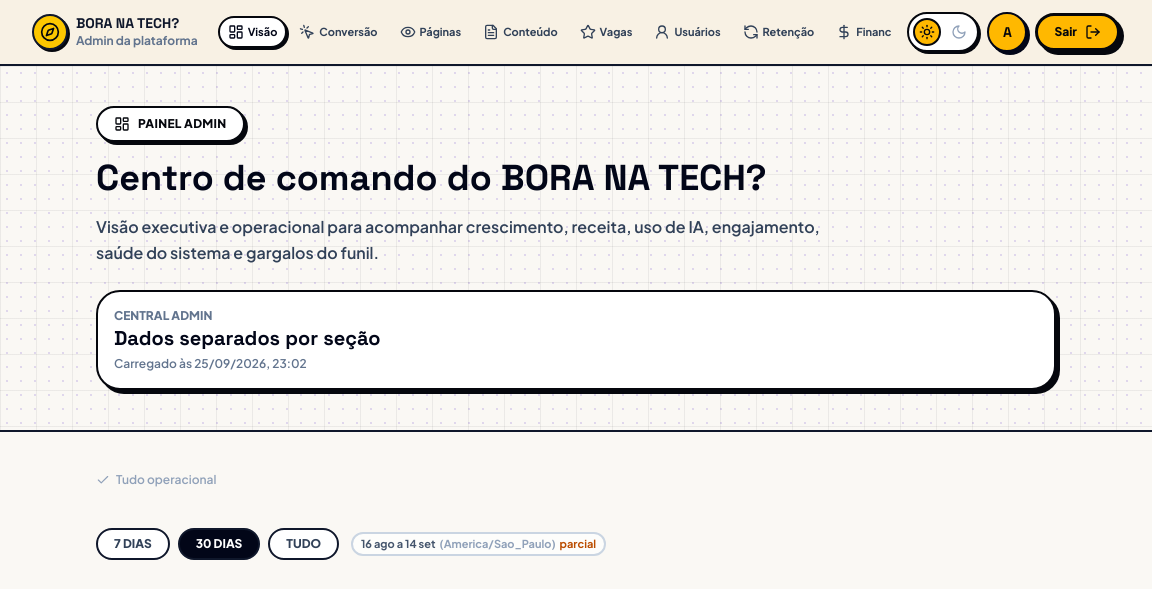
Test: Visão antiga com caixa financeiro honesto › restaura o hero anterior só na Visão e mantém Financeiro compacto
Check: the heading "Centro de comando do BORA NA TECH?" is shown, box [96,155,767,201]
Check: the text "Dados separados por seção" is shown, box [114,325,380,351]
Click the button "Financeiro": (874, 32) [826,16,922,48]
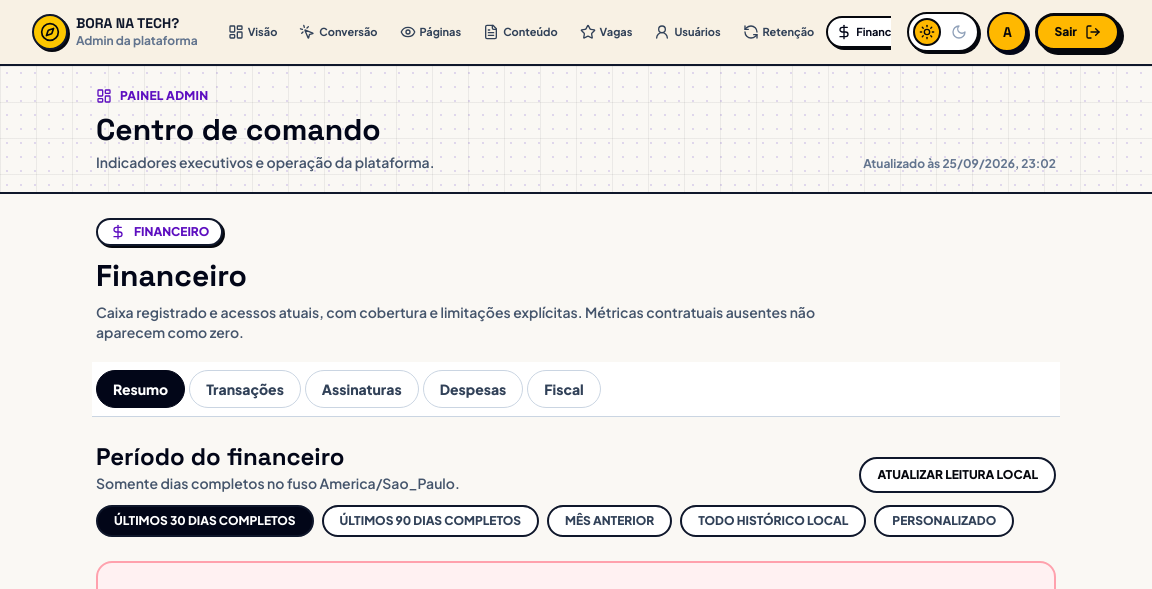
Check: the heading "Centro de comando" is shown, box [96,110,381,149]
Check: the text "Dados separados por seção" is gone
Check: the tab "Resumo" is shown, box [96,370,185,408]
